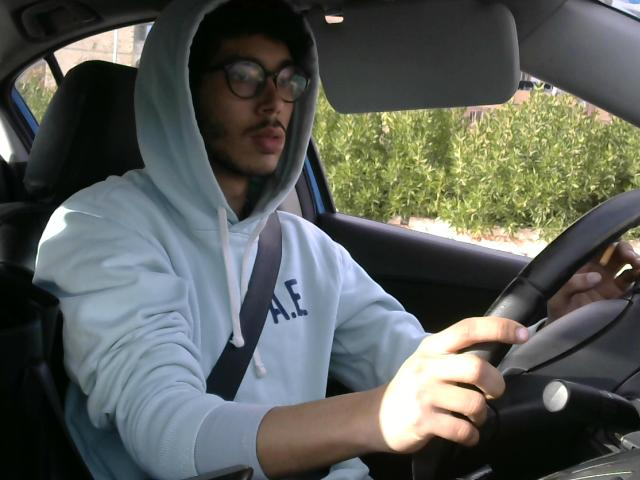Smoking: (594, 217, 629, 266)
